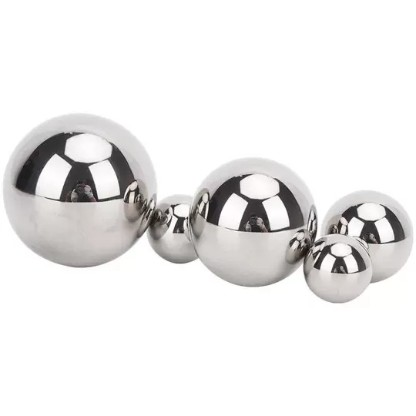ironball: (2, 111, 157, 268), (187, 156, 317, 287), (319, 189, 412, 283), (302, 233, 372, 302), (146, 193, 197, 263)
